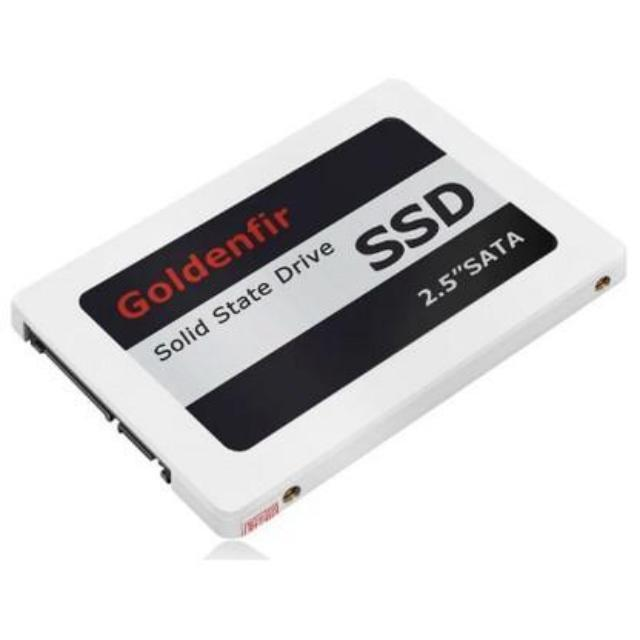DISK: (12, 67, 630, 538)
